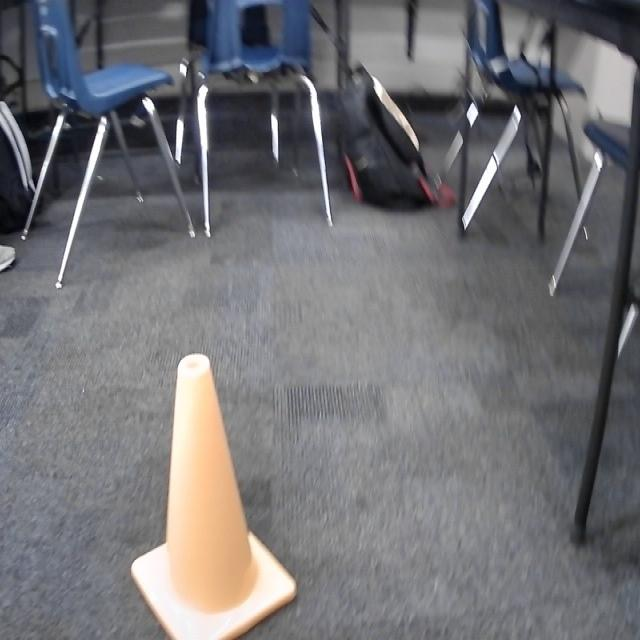cone: (129, 348, 297, 640)
